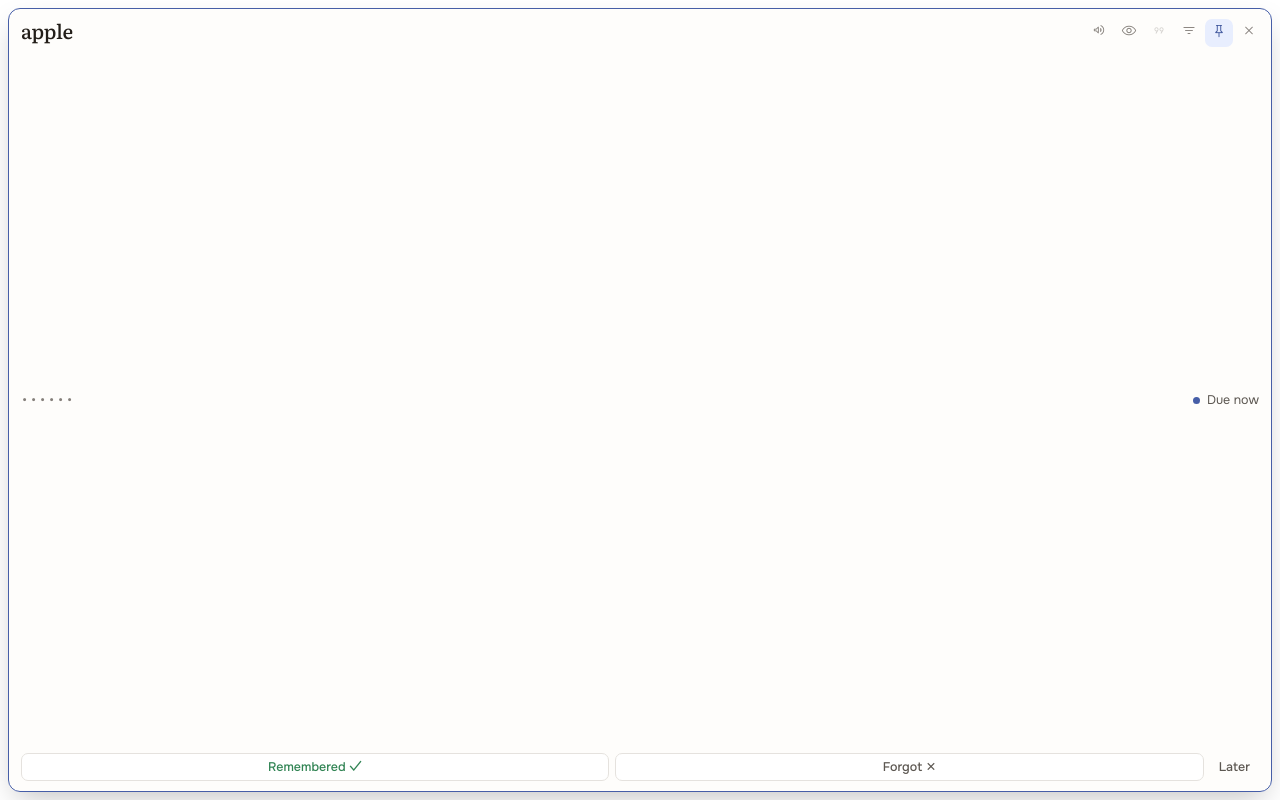
Scenario: StickerApp › picks up the gloss once a backfilled translation arrives
Expected: the text "apple" is shown, left=21, top=19, right=73, bottom=45
Step 1. Click the button named "Toggle translation visibility" → (1129, 33), box left=1115, top=19, right=1143, bottom=47
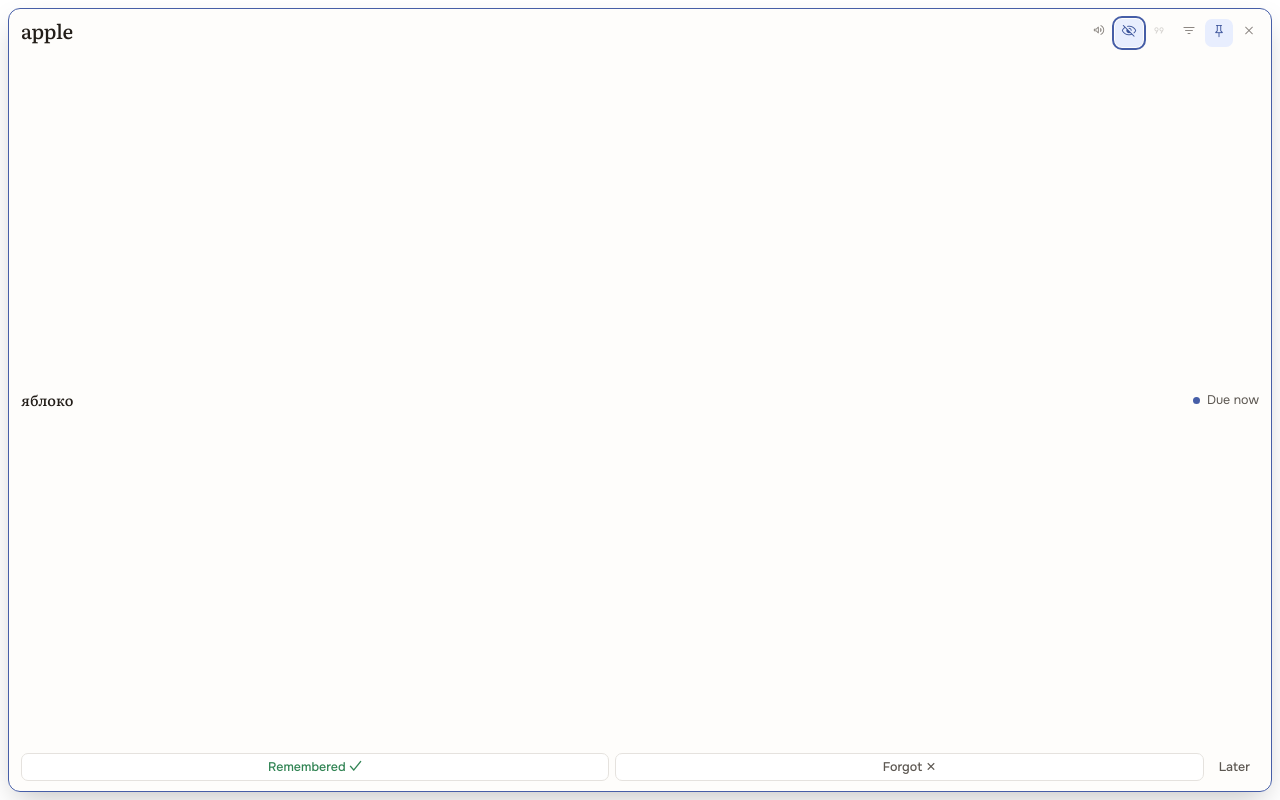
Expected: the text "яблоко" is shown, left=21, top=389, right=73, bottom=410
